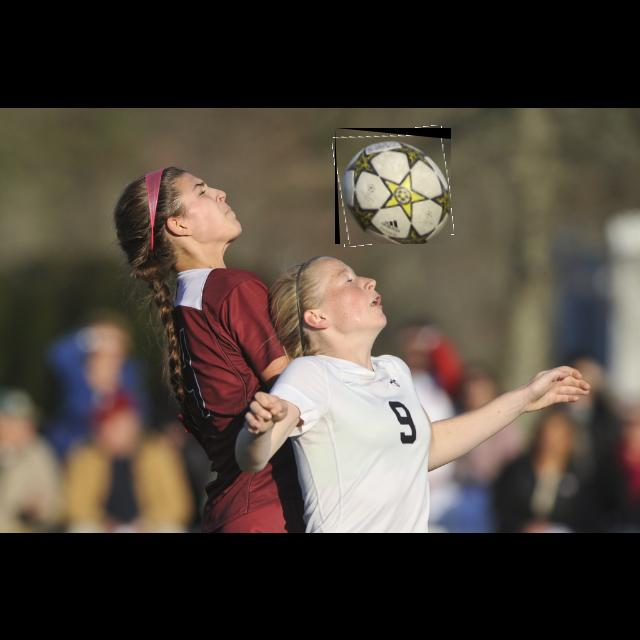Football: (335, 128, 451, 244)
